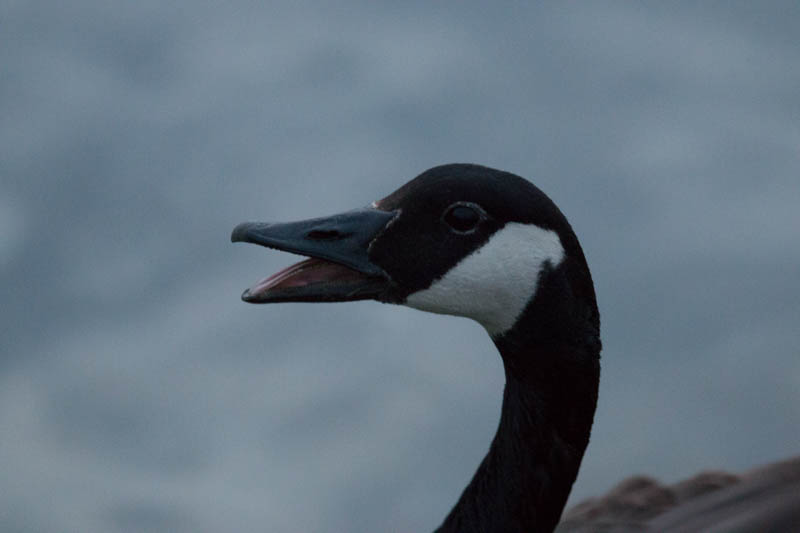goose-head: (231, 163, 600, 341)
